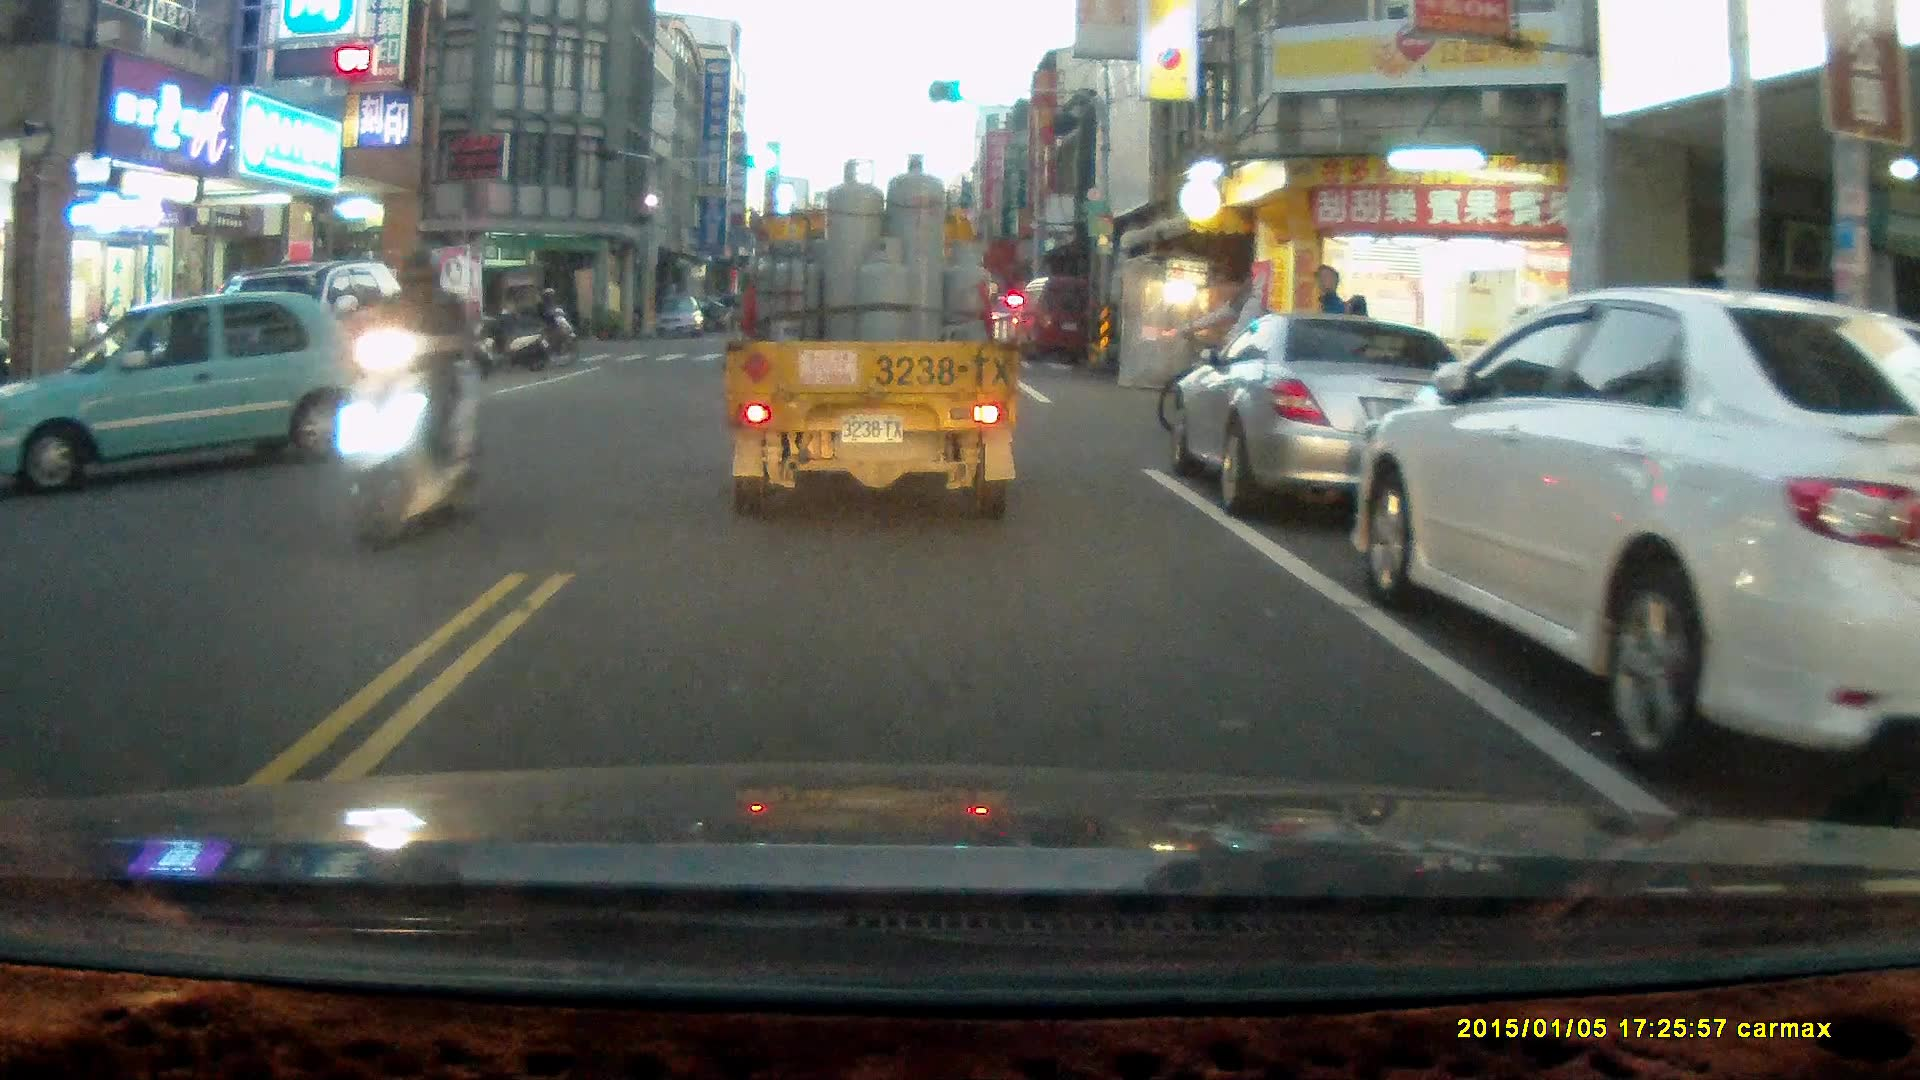rider: (327, 240, 480, 560), (1158, 272, 1318, 450), (519, 286, 582, 358)
vehicle: (1361, 283, 1920, 778), (727, 154, 1019, 520), (1, 288, 354, 495), (1165, 312, 1495, 515), (1016, 270, 1117, 362), (653, 295, 707, 341)
